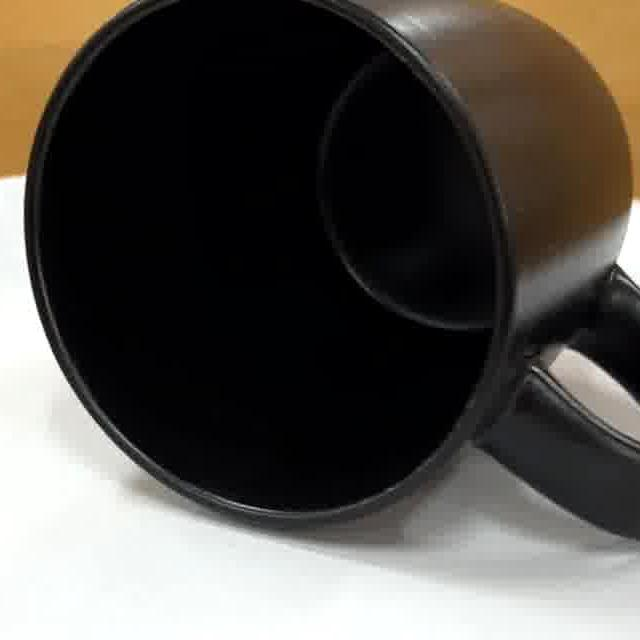cup: (25, 0, 640, 543)
